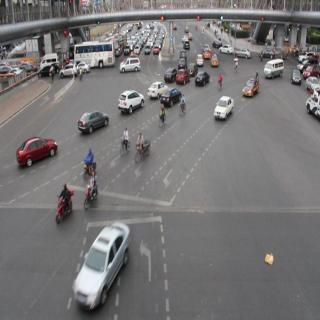BigCar: (74, 41, 115, 67)
Car: (72, 224, 131, 311), (18, 136, 58, 167), (77, 112, 108, 134), (119, 90, 144, 113), (214, 94, 234, 122), (120, 57, 141, 77), (265, 59, 284, 80), (162, 63, 178, 85), (147, 79, 163, 100), (244, 74, 258, 98), (59, 62, 77, 80), (160, 90, 180, 105), (195, 69, 210, 89), (234, 44, 250, 61), (177, 68, 189, 88), (291, 66, 301, 89), (219, 41, 234, 56), (308, 74, 319, 94), (212, 51, 219, 67), (203, 44, 210, 59), (196, 53, 204, 66)
